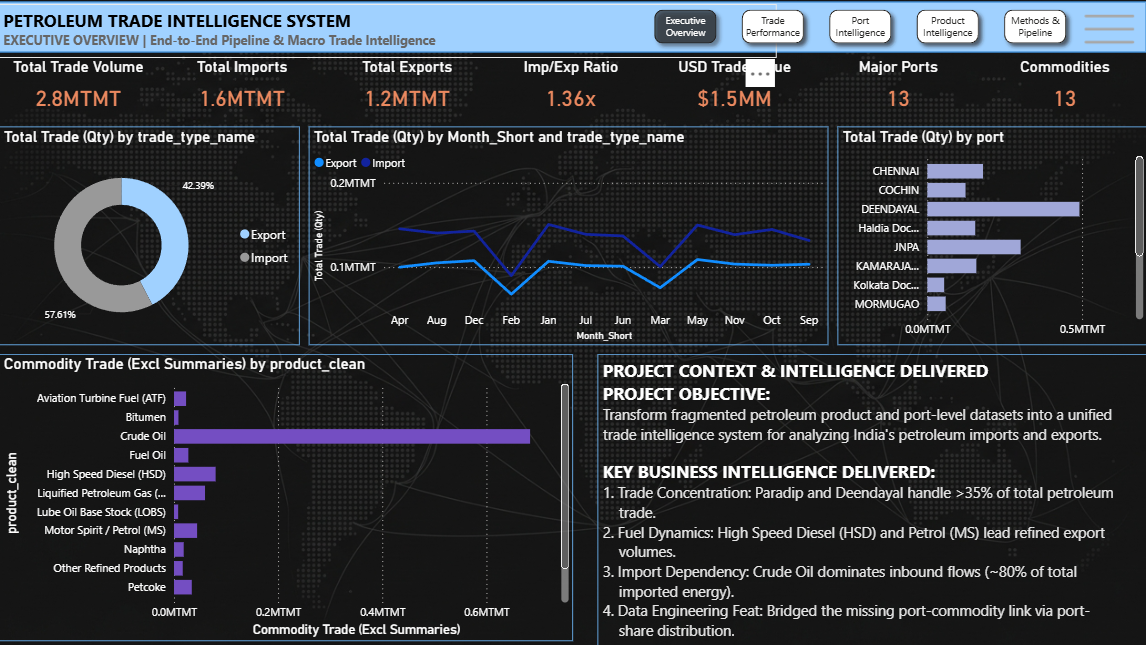

This screenshot's page, from the dashboard's own definition file:
{"tool":"powerbi","page":{"name":"Executive Overview","canvas":[1280,720],"ordinal":0},"visuals":[{"type":"shape","box":[10,8,1260,56],"z":0},{"type":"textbox","box":[10,11.4,852.9,58.6],"z":1000},{"type":"card","title":"Total Trade Volume","fields":{"Values":["_Measures.Total Trade (Qty)"]},"box":[10,70,175,68],"z":2000},{"type":"card","title":"Total Imports","fields":{"Values":["_Measures.Total Imports (Qty)"]},"box":[190,70,175,68],"z":3000},{"type":"card","title":"Total Exports","fields":{"Values":["_Measures.Total Exports (Qty)"]},"box":[370,70,175,68],"z":4000},{"type":"card","title":"Imp/Exp Ratio","fields":{"Values":["_Measures.Import to Export Ratio"]},"box":[550,70,175,68],"z":5000},{"type":"card","title":"USD Trade Value","fields":{"Values":["_Measures.Total Trade Value (USD M)"]},"box":[730,70,175,68],"z":6000},{"type":"card","title":"Major Ports","fields":{"Values":["_Measures.Number of Ports"]},"box":[910,70,175,68],"z":7000},{"type":"card","title":"Commodities","fields":{"Values":["_Measures.Number of Products"]},"box":[1089.5,70,181.1,68.6],"z":8000},{"type":"donutChart","title":"Total Trade (Qty) by trade_type_name","fields":{"Category":["Dim_TradeType.trade_type_name"],"Y":["_Measures.Total Trade (Qty)"]},"box":[10,145,330,240],"z":9000},{"type":"lineChart","fields":{"Category":["Dim_Date.Month_Short"],"Series":["Dim_TradeType.trade_type_name"],"Y":["_Measures.Total Trade (Qty)"]},"box":[350,145,570,240],"z":10000},{"type":"clusteredBarChart","fields":{"Category":["Dim_Port.port"],"Y":["_Measures.Total Trade (Qty)"]},"box":[930,145,340,240],"z":11000},{"type":"clusteredBarChart","fields":{"Category":["Dim_Product.product_clean"],"Y":["_Measures.Commodity Trade (Excl Summaries)"]},"box":[10,395,630,315],"z":12000},{"type":"textbox","box":[666.9,395.2,603.8,325.2],"z":13000},{"type":"pageNavigator","box":[720.4,8.2,471.2,55],"z":14000},{"type":"image","box":[1191.1,0,78.6,80],"z":14001}]}

Visuals, with their boxes in screenshot pixels (x1, y1, x2, y2), scaled from the page's 1280x720 canvas onto the 1146x645 screenshot:
shape: select_region(9, 7, 1137, 57)
textbox: select_region(9, 10, 773, 63)
"Total Trade Volume" card: select_region(9, 63, 166, 124)
"Total Imports" card: select_region(170, 63, 327, 124)
"Total Exports" card: select_region(331, 63, 488, 124)
"Imp/Exp Ratio" card: select_region(492, 63, 649, 124)
"USD Trade Value" card: select_region(654, 63, 810, 124)
"Major Ports" card: select_region(815, 63, 971, 124)
"Commodities" card: select_region(975, 63, 1138, 124)
"Total Trade (Qty) by trade_type_name" donutChart: select_region(9, 130, 304, 345)
lineChart - Dim_Date.Month_Short x Dim_TradeType.trade_type_name: select_region(313, 130, 824, 345)
clusteredBarChart - Dim_Port.port x _Measures.Total Trade (Qty): select_region(833, 130, 1137, 345)
clusteredBarChart - Dim_Product.product_clean x _Measures.Commodity Trade (Excl Summaries): select_region(9, 354, 573, 636)
textbox: select_region(597, 354, 1138, 644)
pageNavigator: select_region(645, 7, 1067, 57)
image: select_region(1066, 0, 1137, 72)
